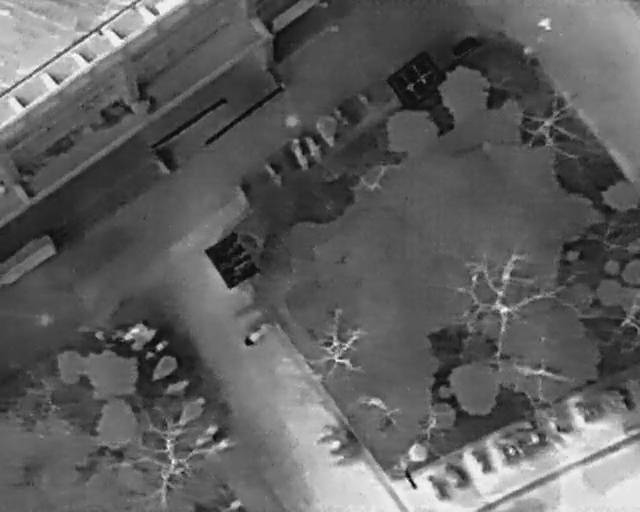Bicycle: (162, 391, 210, 435), (309, 110, 347, 151), (240, 313, 280, 351), (438, 456, 476, 496), (144, 349, 185, 386), (152, 373, 194, 408), (256, 146, 289, 187), (420, 467, 451, 504), (463, 440, 494, 474), (286, 136, 313, 172), (302, 133, 328, 166), (232, 177, 256, 212), (328, 100, 354, 131), (142, 337, 171, 364)
